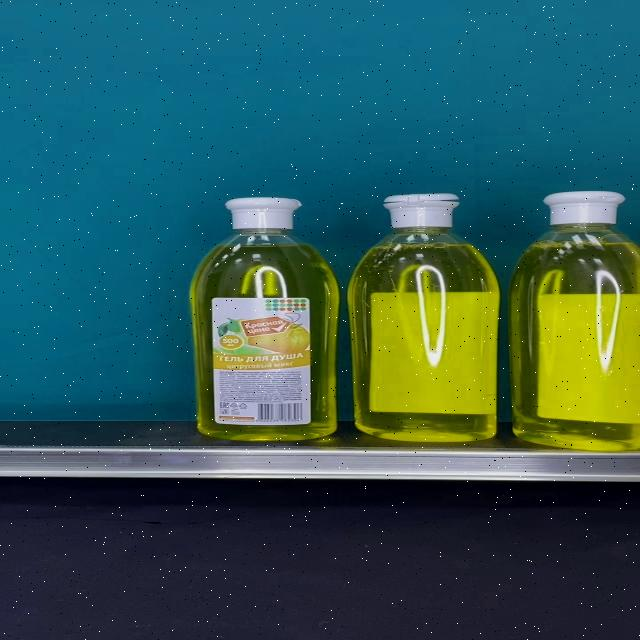Bottle: (347, 192, 501, 442), (190, 197, 339, 441), (509, 190, 640, 452)
Cap: (543, 190, 625, 226), (224, 197, 302, 231), (383, 193, 460, 227)
